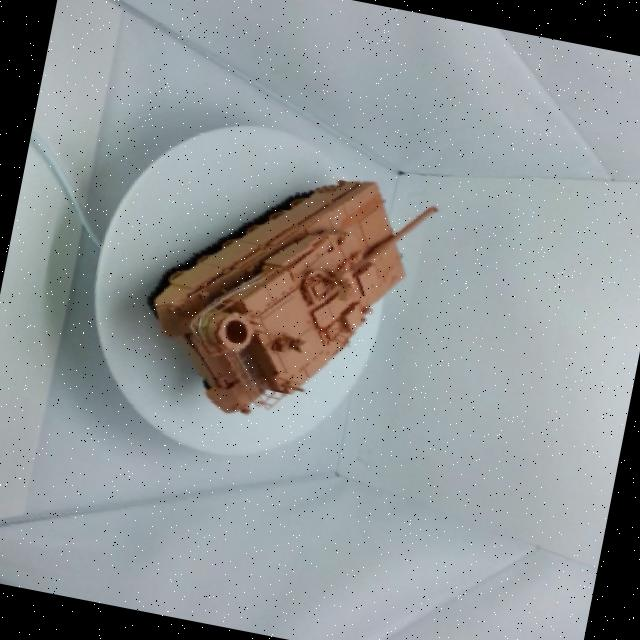korea tank: (115, 111, 472, 461)
